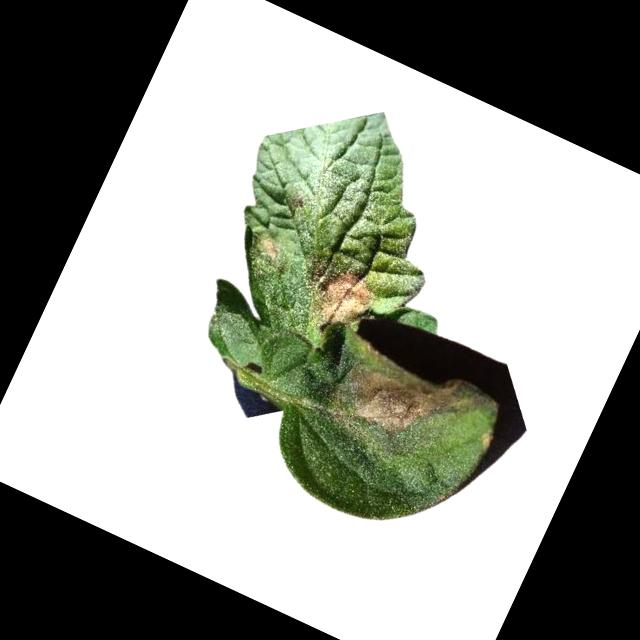Late_blight: (330, 336, 493, 473), (285, 249, 384, 350), (249, 230, 284, 266)
